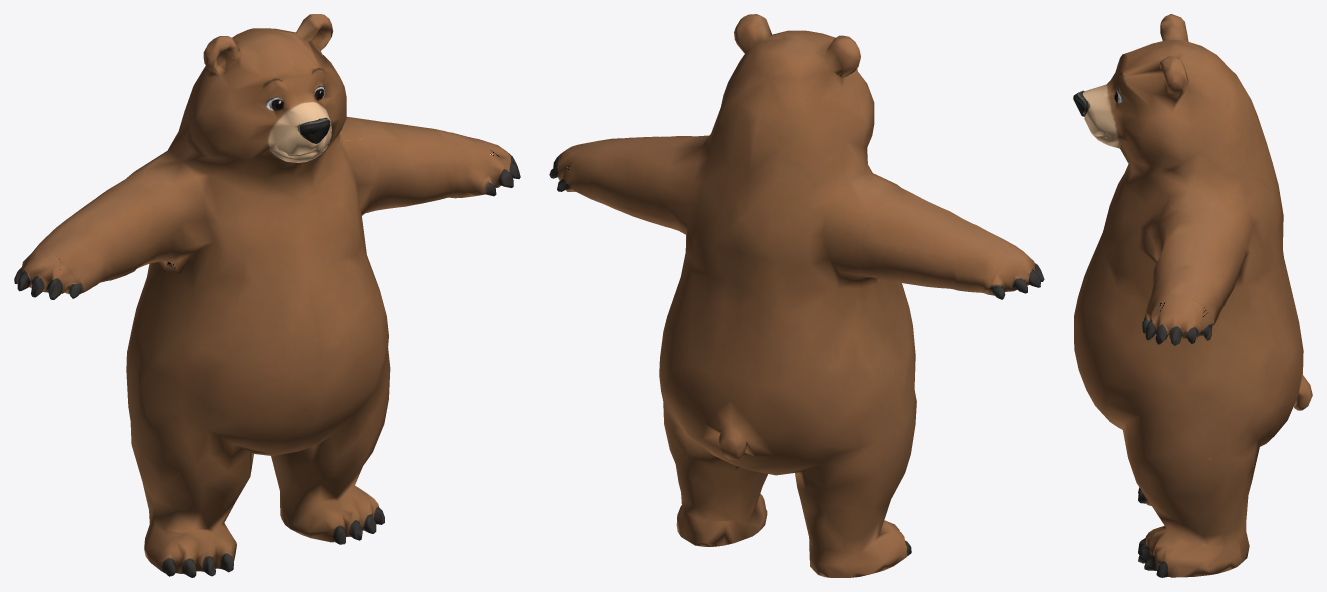
Rendered from bear-arms.glb.
3 renders of one model, left to right at view 1: azimuth 30°, elevation 25°; view 2: azimuth 150°, elevation 25°; view 3: azimuth 270°, elevation 25°, orthographic. The views are drawn at different scales.
Visible parts, largest first — view 1: bear; view 2: bear; view 3: bear.
Boxes of the visible parts, x1,y1,x2,y2 form: bear: (14, 14, 520, 577); bear: (549, 14, 1044, 577); bear: (1073, 14, 1312, 577).
Size of the model in its own units: 1.9 by 1.89 by 0.8359.
Materials: 1 (1 with a texture image).
